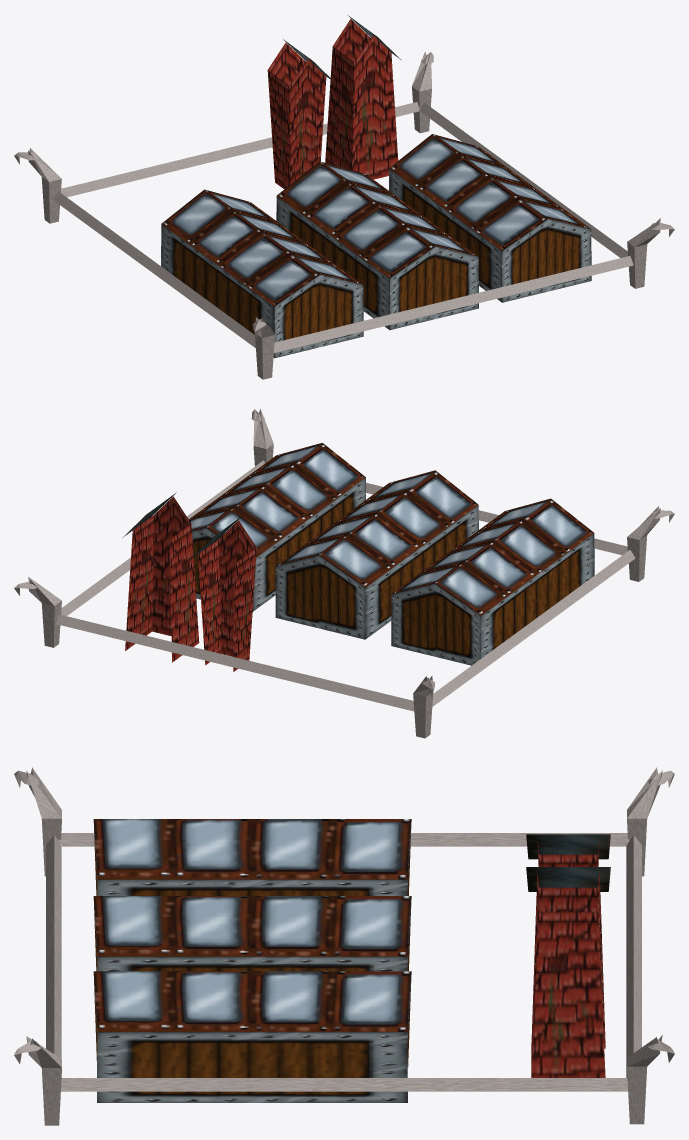
File: Dach_Füllhaus2_2399.glb
3 renders of one model, top to bottom at view 1: azimuth 30°, elevation 25°; view 2: azimuth 150°, elevation 25°; view 3: azimuth 270°, elevation 25°, orthographic. The views are drawn at different scales.
Visible parts, largest first — view 1: pPlaneShape94, pPlaneShape40, pPlaneShape89, pPlaneShape83, pPlaneShape39, pPlaneShape93, pPlaneShape88, pPlaneShape96, pPlaneShape11, pPlaneShape91, pPlaneShape78, pPlaneShape42 (+11 smaller); view 2: pPlaneShape89, pPlaneShape94, pPlaneShape40, pPlaneShape90, pPlaneShape95, pPlaneShape96, pPlaneShape10, pPlaneShape91, pPlaneShape42, pPlaneShape86, pPlaneShape83, pPlaneShape87 (+11 smaller); view 3: pPlaneShape40, pPlaneShape89, pPlaneShape94, pPlaneShape43, pPlaneShape87, pPlaneShape12, pPlaneShape97, pPlaneShape92, pPlaneShape17, pPlaneShape11, pPlaneShape10, pPlaneShape79 (+9 smaller).
Part boxes in pixels (<box>): pPlaneShape94: <box>161,189,362,306</box>; pPlaneShape40: <box>389,134,590,250</box>; pPlaneShape89: <box>276,161,478,278</box>; pPlaneShape83: <box>352,35,398,179</box>; pPlaneShape39: <box>502,218,591,302</box>; pPlaneShape93: <box>274,274,363,358</box>; pPlaneShape88: <box>389,246,478,329</box>; pPlaneShape96: <box>161,224,274,357</box>; pPlaneShape11: <box>274,256,633,352</box>; pPlaneShape91: <box>276,196,389,329</box>; pPlaneShape78: <box>289,59,326,183</box>; pPlaneShape42: <box>389,168,501,302</box>; pPlaneShape89: <box>276,470,478,587</box>; pPlaneShape94: <box>392,498,593,615</box>; pPlaneShape40: <box>189,443,365,557</box>; pPlaneShape90: <box>275,555,365,639</box>; pPlaneShape95: <box>391,583,480,665</box>; pPlaneShape96: <box>481,533,594,658</box>; pPlaneShape10: <box>56,614,414,711</box>; pPlaneShape91: <box>365,505,478,639</box>; pPlaneShape42: <box>252,477,365,611</box>; pPlaneShape86: <box>170,524,198,662</box>; pPlaneShape83: <box>152,496,199,642</box>; pPlaneShape87: <box>125,515,154,650</box>; pPlaneShape40: <box>93,971,411,1031</box>; pPlaneShape89: <box>93,896,411,956</box>; pPlaneShape94: <box>93,819,411,879</box>; pPlaneShape43: <box>97,1032,407,1102</box>; pPlaneShape87: <box>531,912,605,1077</box>; pPlaneShape12: <box>61,1078,627,1091</box>; pPlaneShape97: <box>97,879,407,895</box>; pPlaneShape92: <box>97,956,407,971</box>; pPlaneShape17: <box>58,833,629,846</box>; pPlaneShape11: <box>46,835,54,1053</box>; pPlaneShape10: <box>633,835,641,1052</box>; pPlaneShape79: <box>526,834,610,859</box>.
Size of the model in its own units: 1.13 by 0.3701 by 1.12.
41 materials, 41 textured.
